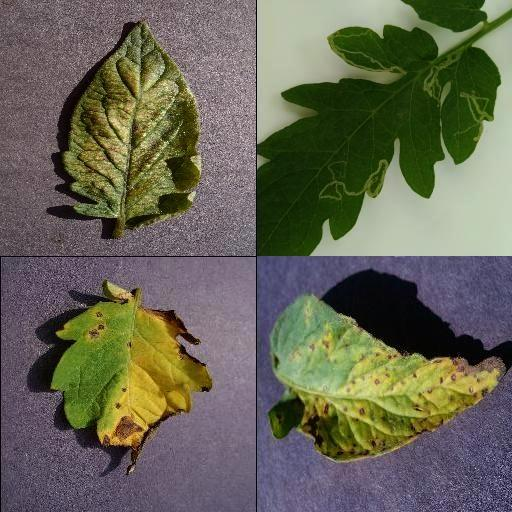Leaf Miner: (256, 24, 503, 256)
Septoria: (270, 293, 506, 462), (47, 279, 211, 475)
Spider Mites: (62, 19, 204, 217)
